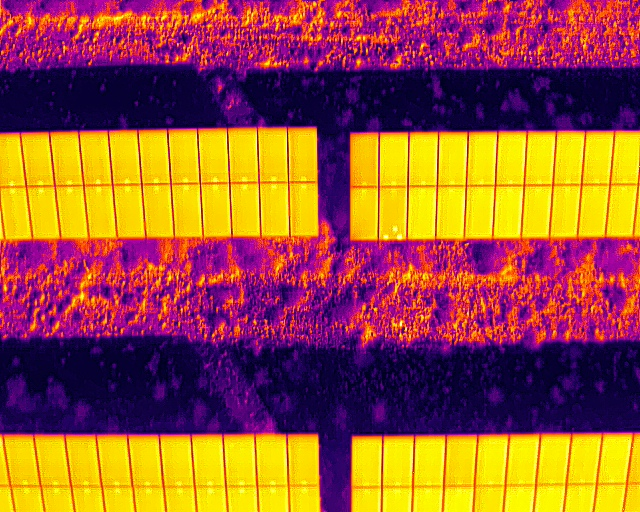multi_spot: (376, 186, 410, 241)
photovoltaic_panels: (3, 124, 321, 240), (346, 128, 633, 241), (4, 429, 323, 509), (347, 430, 638, 508)
